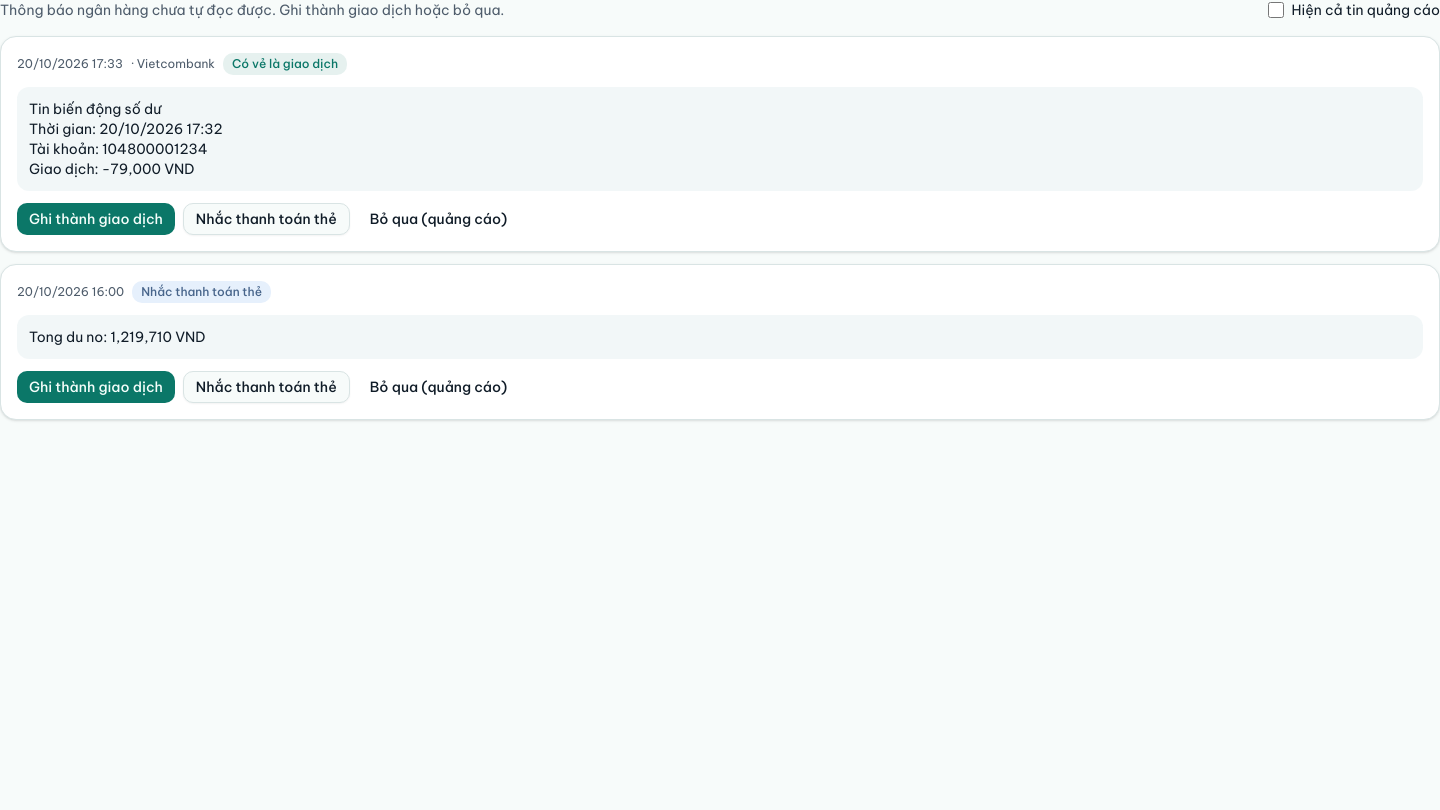
Test: UnparsedInbox › ghi thành giao dịch: điền sẵn số tiền/thời điểm, chọn sẵn TK khớp đuôi, gửi số âm + offset +07:00
The width and height of the screenshot is (1440, 810).
Click the button "Ghi thành giao dịch" below "20/10/2026 17:33": (96, 219) [17,203,175,235]
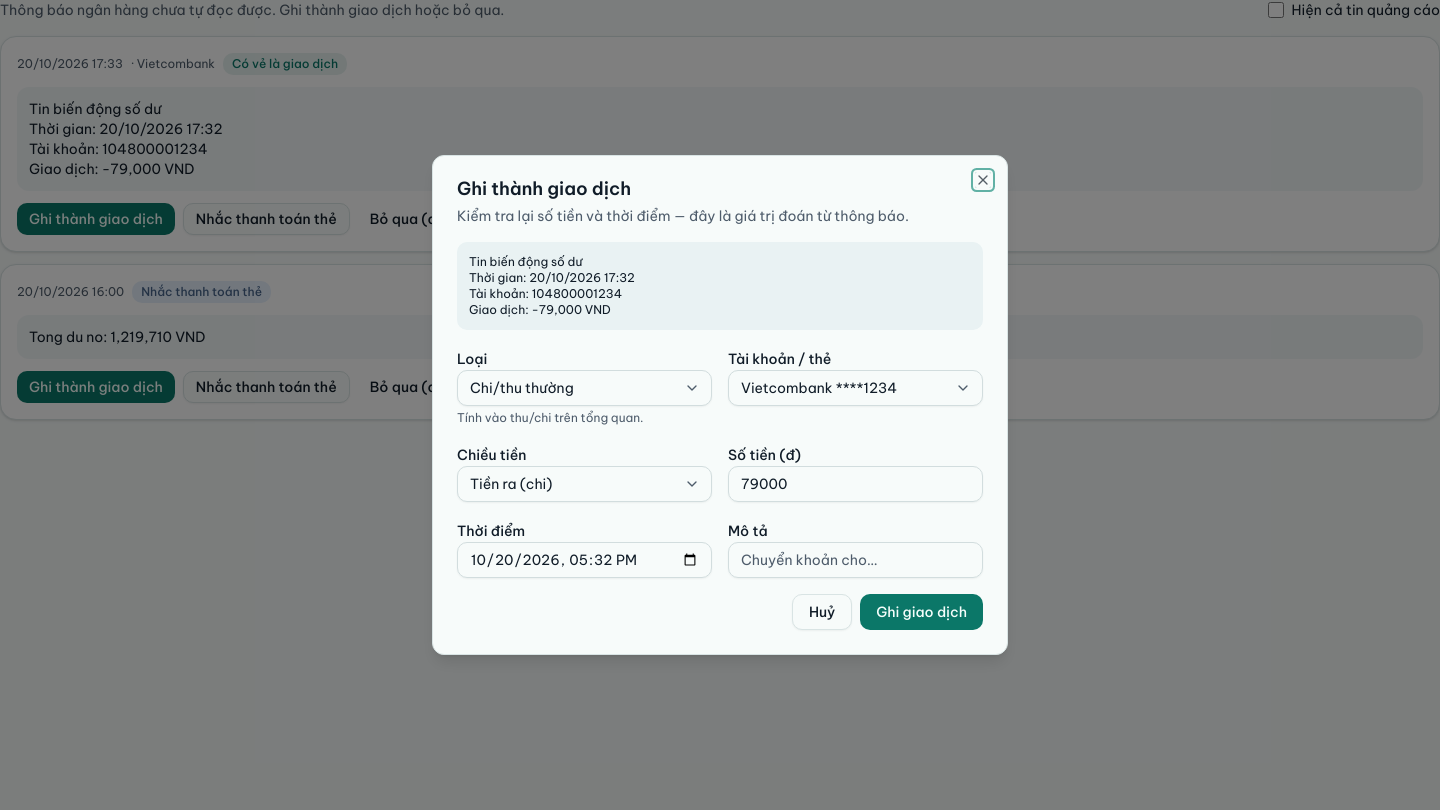
Now the field labelled "Số tiền (đ)" holds "79000", box [728,466,983,502]
Now the field labelled "Thời điểm" holds "2026-10-20T17:32", box [457,542,712,578]
Now the dropdown labelled "Tài khoản / thẻ" shows "Vietcombank ****1234", box [728,370,983,406]
Select "Chuyển nội bộ" in the dropdown labelled "Loại": (584, 388) [457,370,712,406]
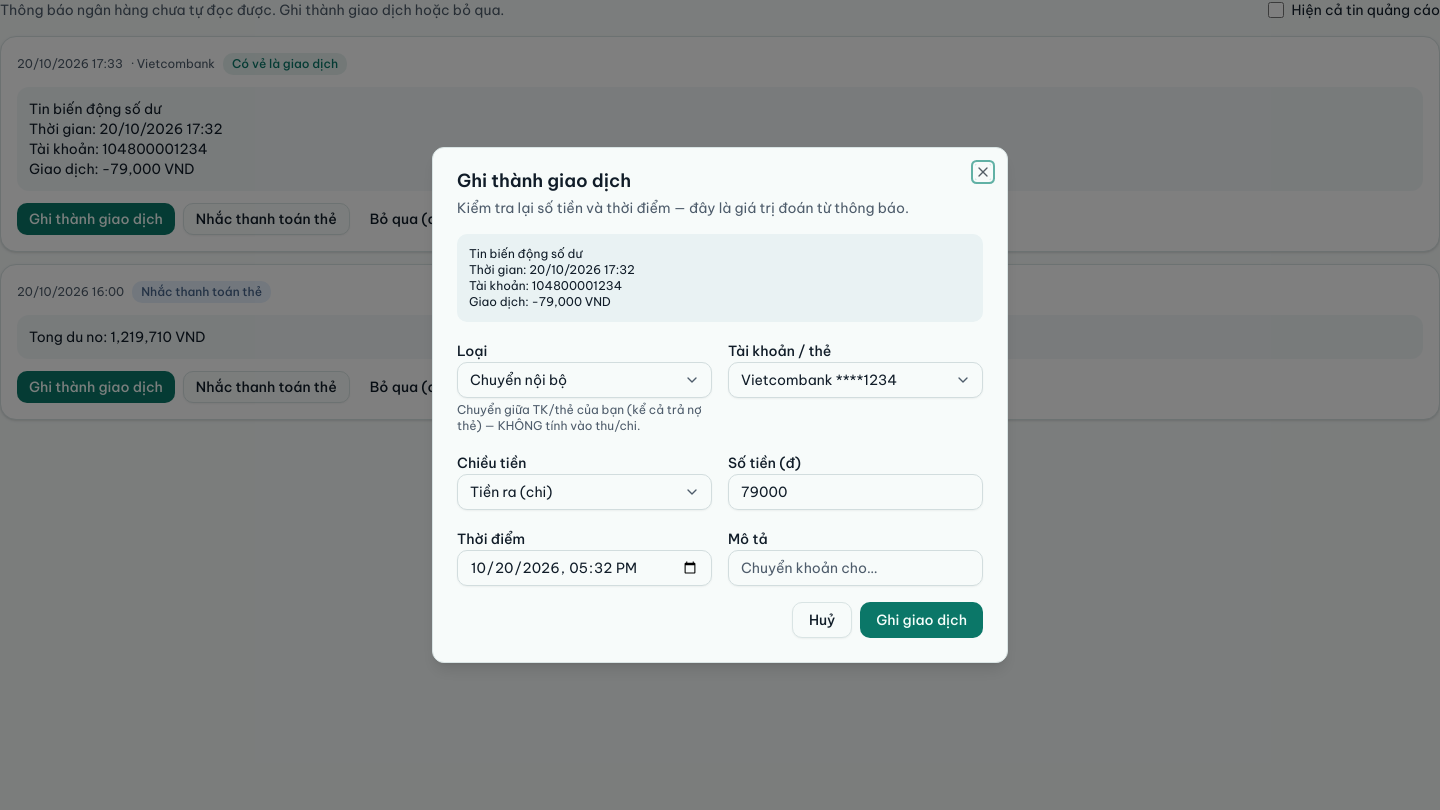
Now the text "KHÔNG tính vào thu/chi" is shown, box [457,402,702,433]
Click the button "Ghi giao dịch": (922, 620) [860,602,983,638]
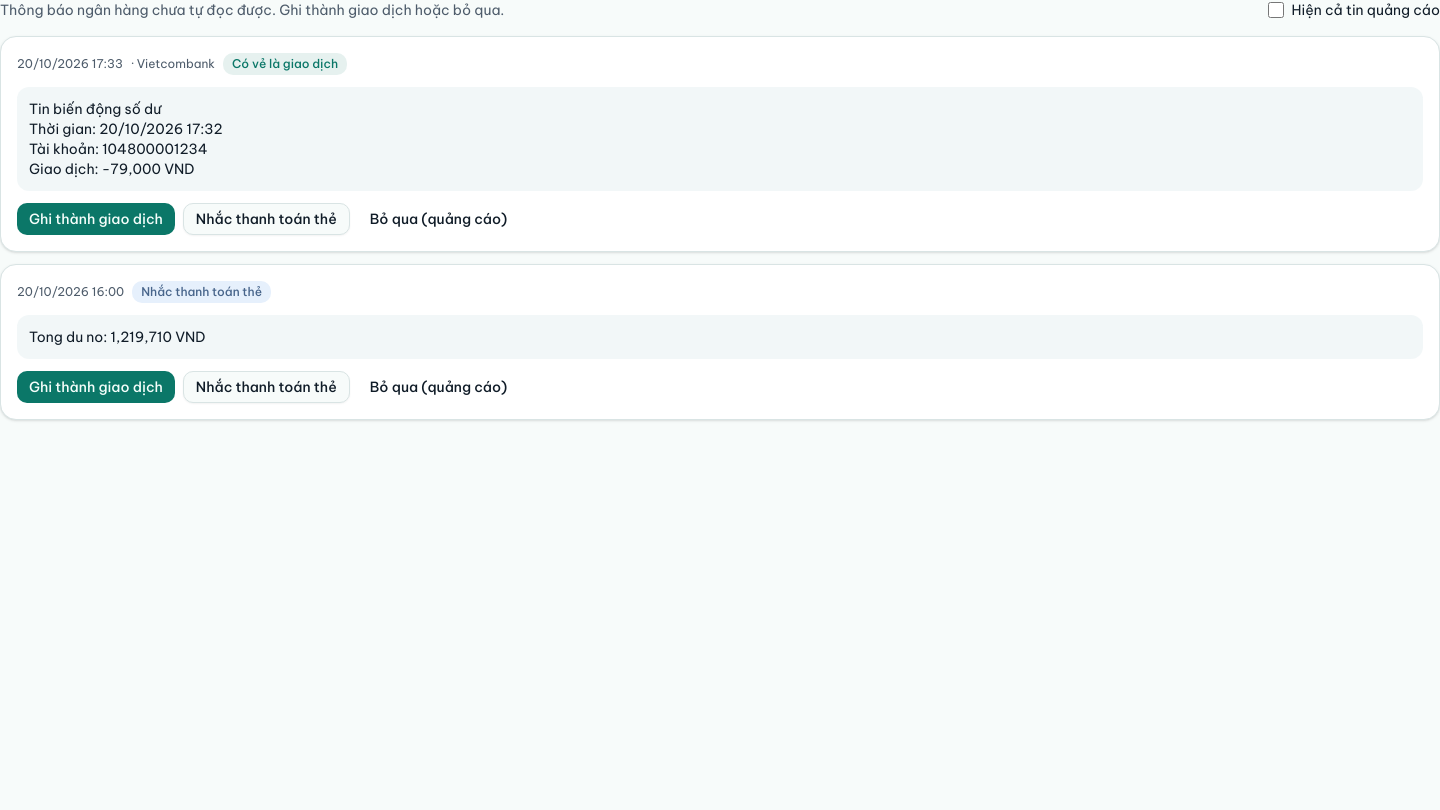
Now the dialog is gone
